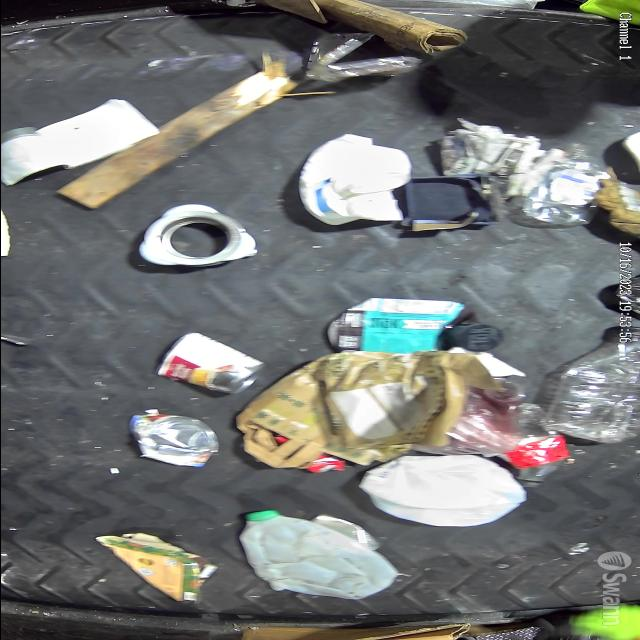can: (146, 330, 271, 397), (129, 406, 225, 468)
milk_jug: (238, 509, 404, 603), (351, 448, 528, 528), (288, 130, 408, 224), (502, 405, 572, 489)
plastic_bottle: (540, 324, 640, 444)
